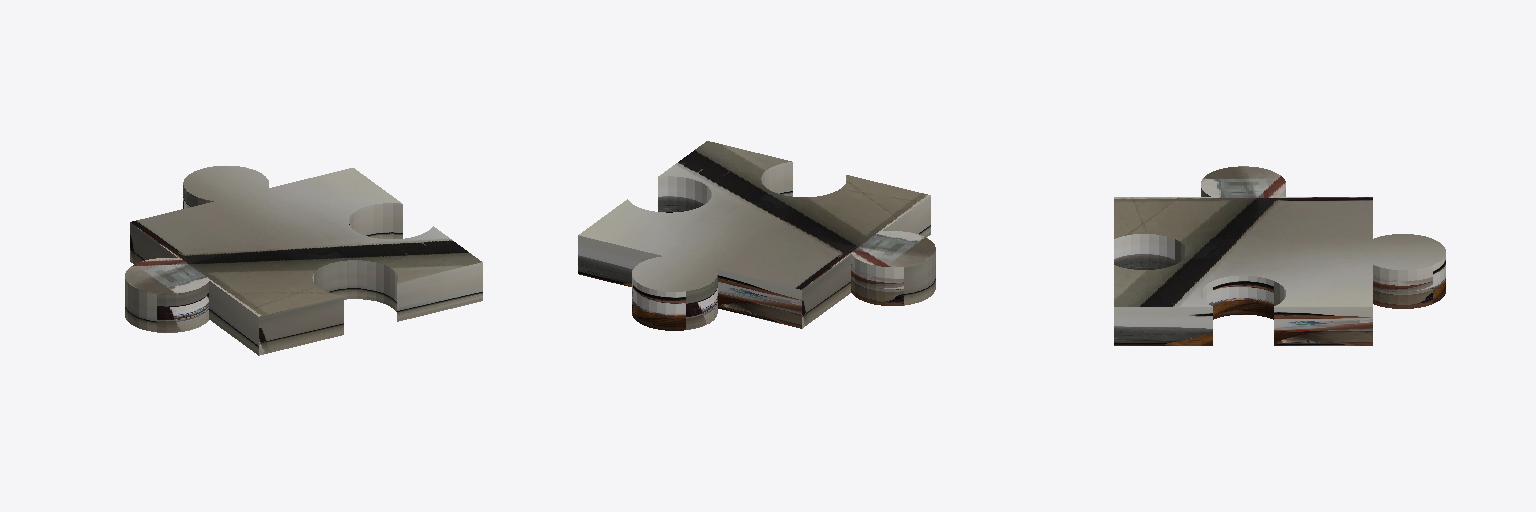
The picture shows the model from 3 angles: view 1: azimuth 30°, elevation 25°; view 2: azimuth 150°, elevation 25°; view 3: azimuth 270°, elevation 25°; orthographic projection.
Parts seen in each view (by area): view 1: ͼ��019; view 2: ͼ��019; view 3: ͼ��019.
Boxes of the visible parts, x1,y1,x2,y2 form: ͼ��019: [125, 166, 482, 355]; ͼ��019: [578, 141, 935, 330]; ͼ��019: [1114, 166, 1445, 345].
Size of the model in its own units: 38.5 by 5 by 38.5.
Materials: 1 (1 with a texture image).